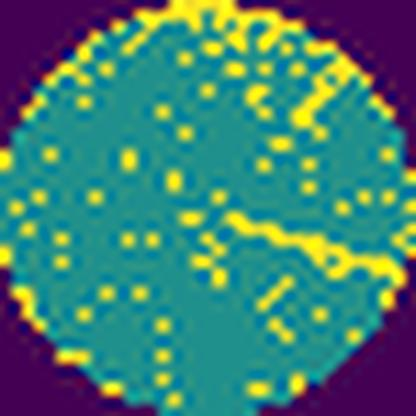Scratch: (221, 210, 408, 290)
